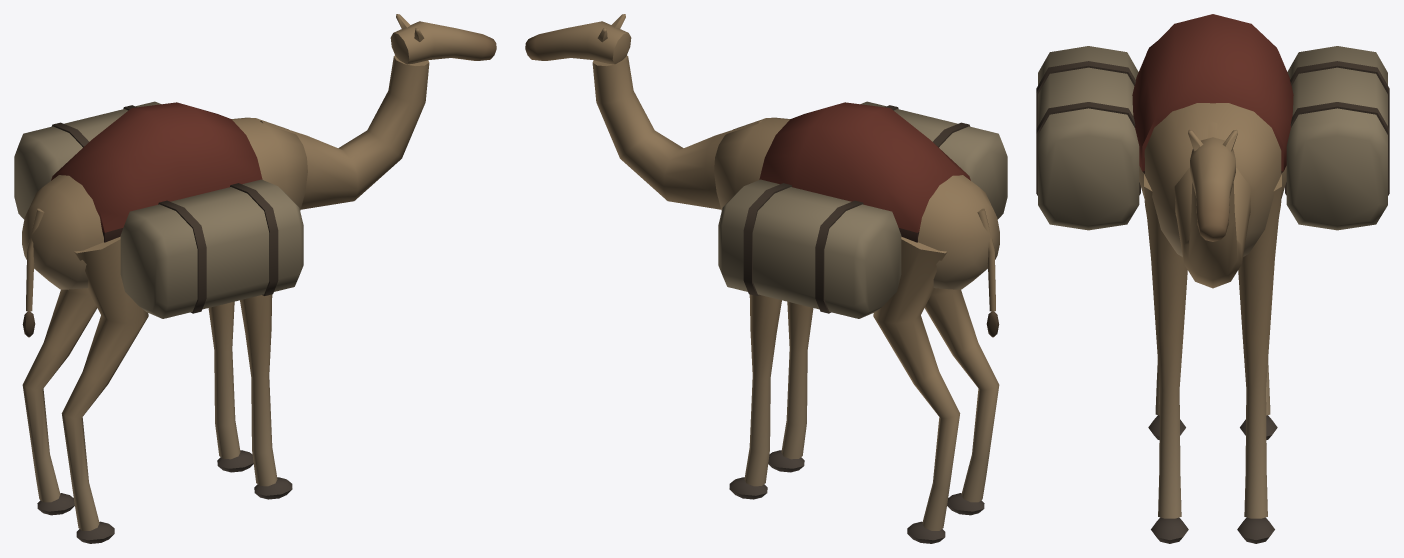
File: actor-camel.glb
3 views of the same model, side by side, from view 1: azimuth 30°, elevation 25°; view 2: azimuth 150°, elevation 25°; view 3: azimuth 270°, elevation 25° (orthographic). The views are drawn at different scales.
Parts seen in each view (by area): view 1: body, head, leg_br, leg_bl, leg_fr, leg_fl; view 2: body, head, leg_bl, leg_br, leg_fl, leg_fr; view 3: body, head, leg_fl, leg_fr, leg_bl, leg_br.
Boxes of the visible parts, bbox=[...] form: body: bbox=[14, 101, 307, 337]; head: bbox=[260, 14, 496, 209]; leg_br: bbox=[61, 236, 148, 543]; leg_bl: bbox=[22, 288, 97, 515]; leg_fr: bbox=[240, 294, 292, 499]; leg_fl: bbox=[208, 301, 253, 472]; body: bbox=[714, 101, 1007, 337]; head: bbox=[525, 14, 761, 209]; leg_bl: bbox=[873, 236, 960, 543]; leg_br: bbox=[924, 288, 999, 515]; leg_fl: bbox=[729, 294, 781, 499]; leg_fr: bbox=[768, 301, 813, 472]; body: bbox=[1036, 14, 1389, 256]; head: bbox=[1174, 122, 1251, 288]; leg_fl: bbox=[1237, 174, 1281, 543]; leg_fr: bbox=[1144, 174, 1188, 543]; leg_bl: bbox=[1240, 200, 1281, 439]; leg_br: bbox=[1144, 200, 1185, 439].
Bounding box in the file's own units: 2.49 × 2.15 × 1.39.
